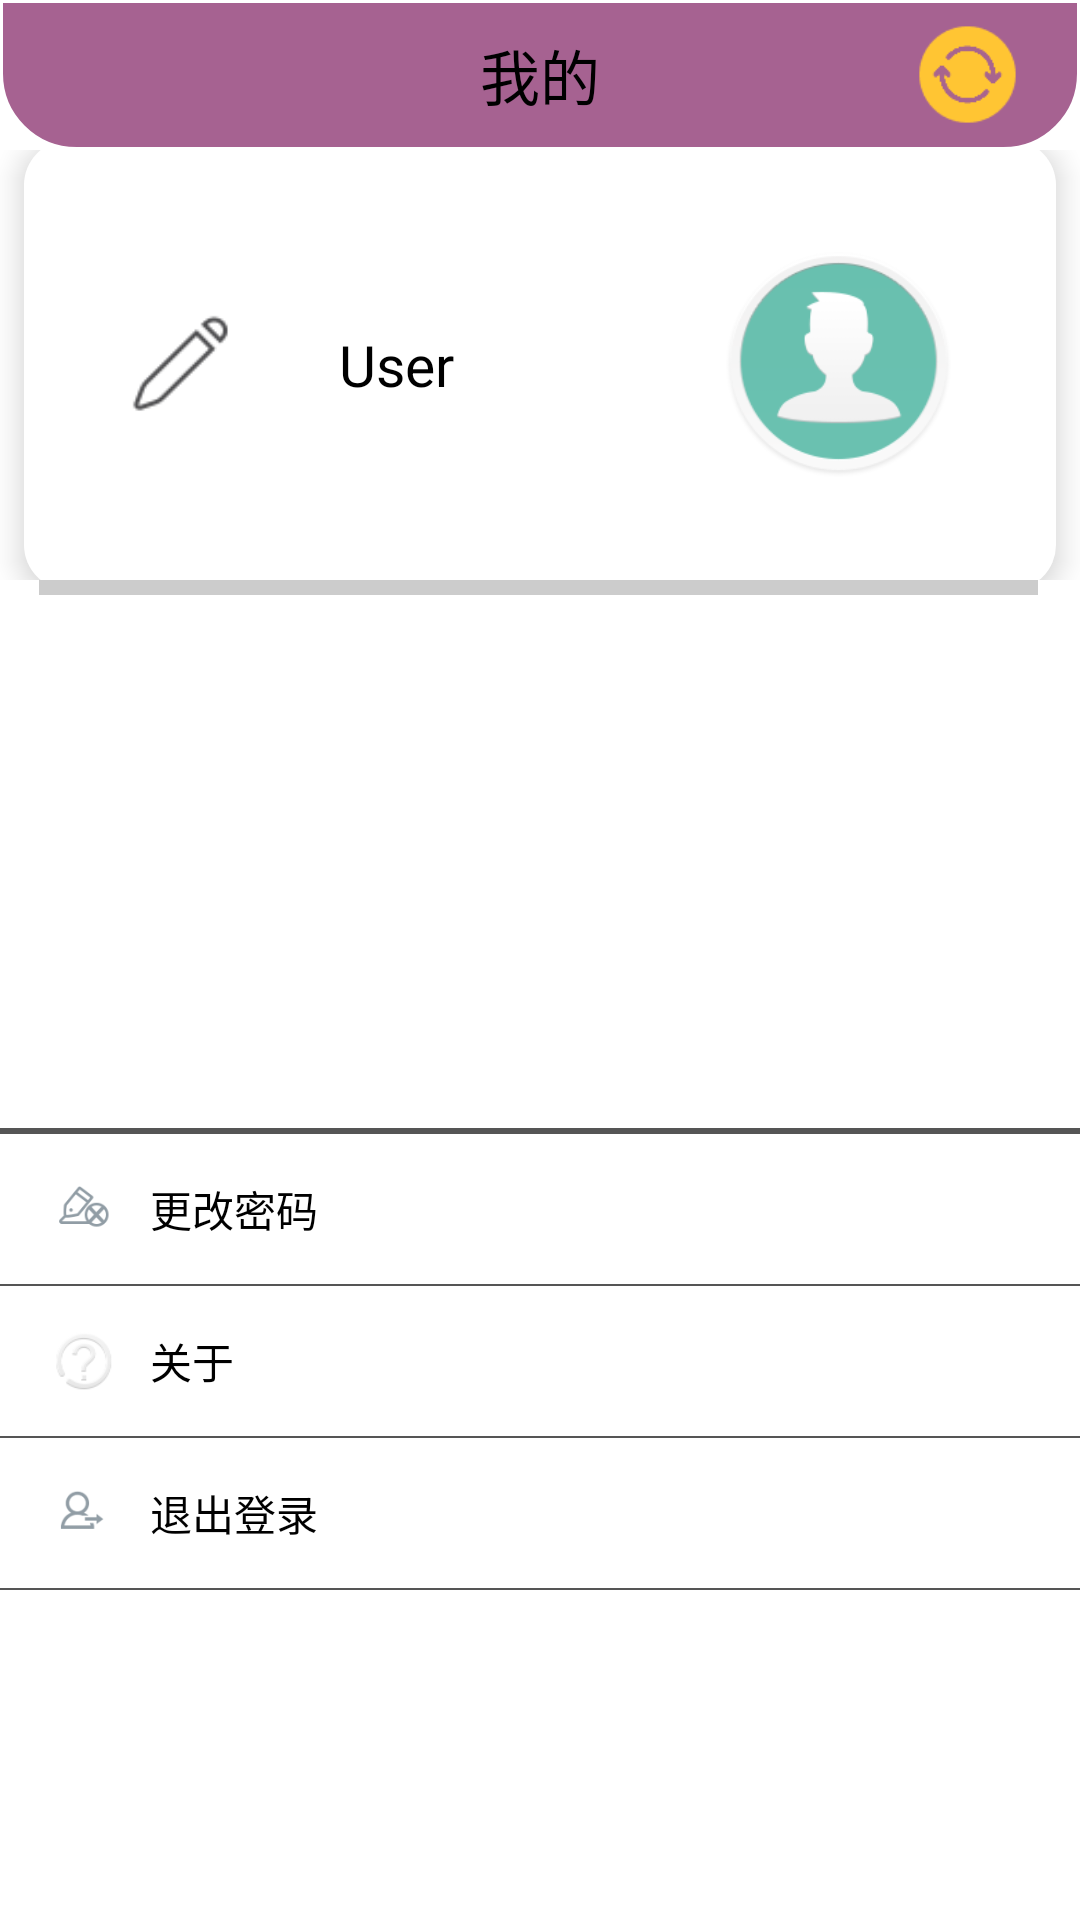

Icon bounding boxes for this 1080w x 1920h phone screenshot, format bbox=(x1, y1, x2, y2):
backstage upload refresh: bbox=(919, 26, 1016, 123)
contact head: bbox=(739, 262, 938, 460)
view edit: bbox=(133, 316, 228, 411)
